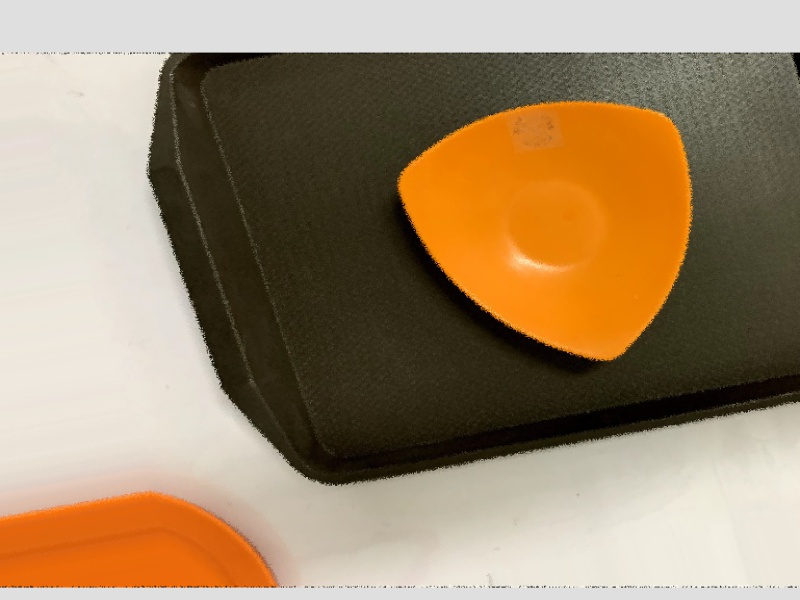dish11: (371, 73, 751, 395)
